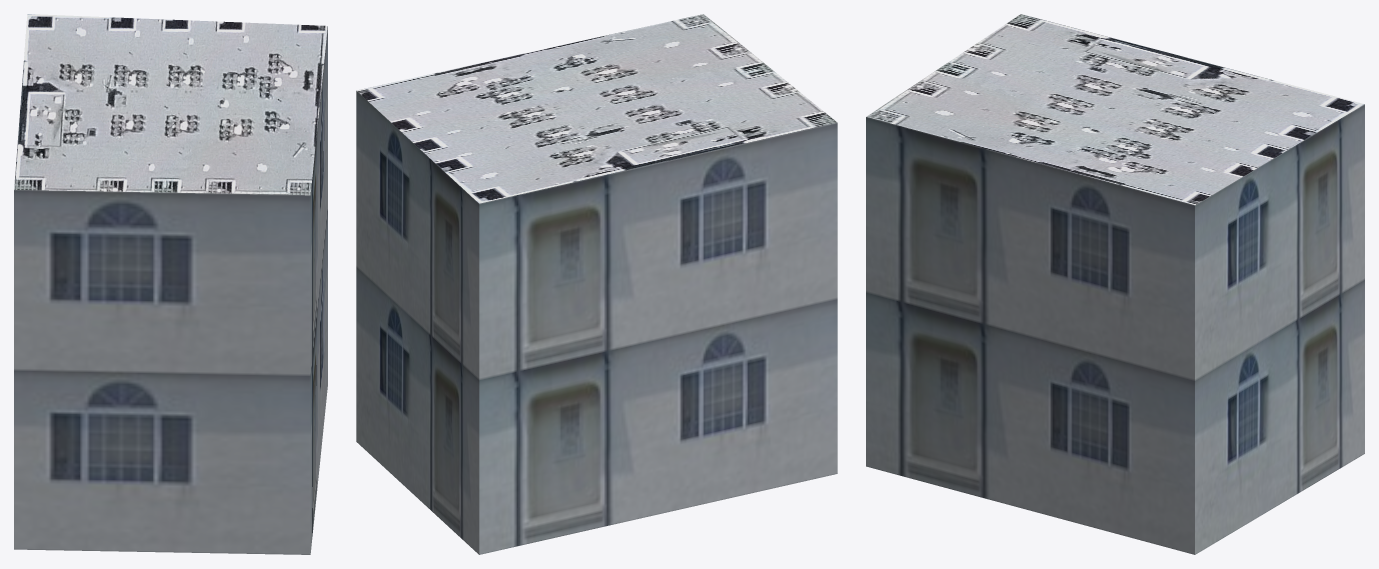
Rendered from ResTex__4032.fbx.
The picture shows the model from 3 angles, left to right: view 1: azimuth 30°, elevation 25°; view 2: azimuth 150°, elevation 25°; view 3: azimuth 270°, elevation 25°; orthographic projection. The views are drawn at different scales.
Parts seen in each view (by area): view 1: CityEngineMaterial_17_m, CityEngineMaterial_4_m; view 2: CityEngineMaterial_17_m, CityEngineMaterial_4_m; view 3: CityEngineMaterial_17_m, CityEngineMaterial_4_m.
Boxes of the visible parts, x1,y1,x2,y2 form: CityEngineMaterial_17_m: [14, 27, 327, 554]; CityEngineMaterial_4_m: [14, 14, 327, 195]; CityEngineMaterial_17_m: [356, 91, 837, 554]; CityEngineMaterial_4_m: [356, 14, 837, 203]; CityEngineMaterial_17_m: [866, 104, 1364, 554]; CityEngineMaterial_4_m: [866, 14, 1364, 205].
Size of the model in its own units: 7.04 by 6 by 7.76.
Materials: 2 (2 with a texture image).
